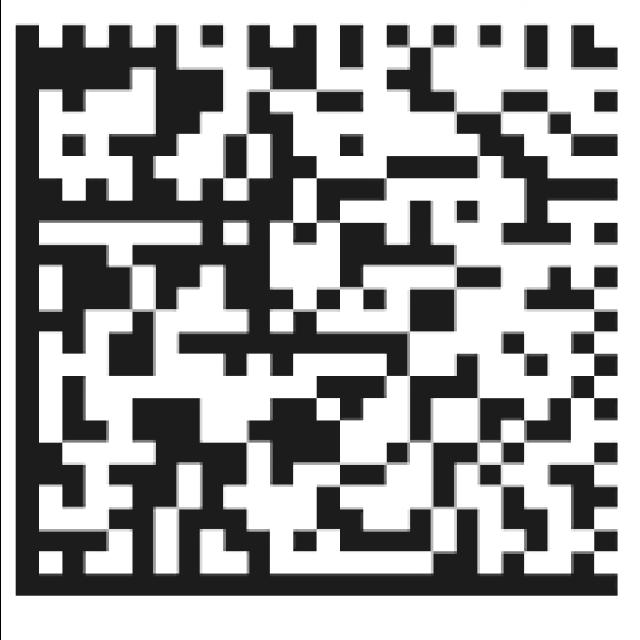DataMatrix: (6, 11, 628, 607)
